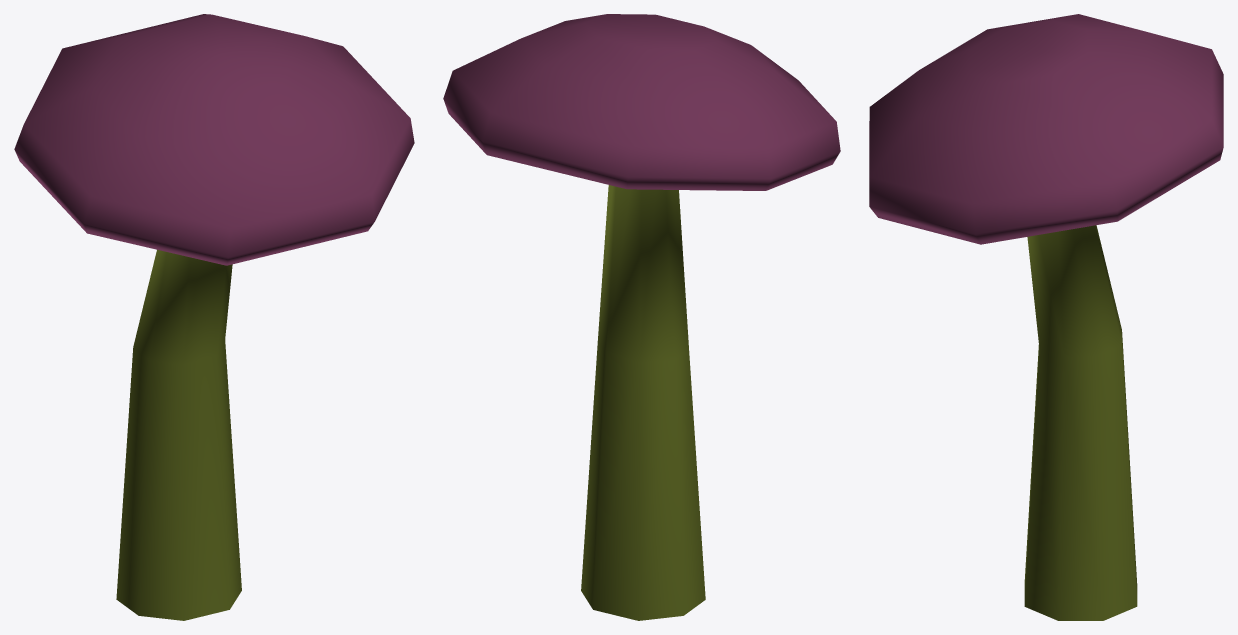
The model's file is SM_Mushroom_02.fbx.
The picture shows the model from 3 angles, left to right: view 1: azimuth 30°, elevation 25°; view 2: azimuth 150°, elevation 25°; view 3: azimuth 270°, elevation 25°; orthographic projection. The views are drawn at different scales.
Parts seen in each view (by area): view 1: mushgroom2; view 2: mushgroom2; view 3: mushgroom2.
Part boxes in pixels (<box>): mushgroom2: <box>14,14,414,620</box>; mushgroom2: <box>443,14,840,620</box>; mushgroom2: <box>869,14,1223,620</box>.
Size of the model in its own units: 23.24 by 21.25 by 37.2.
